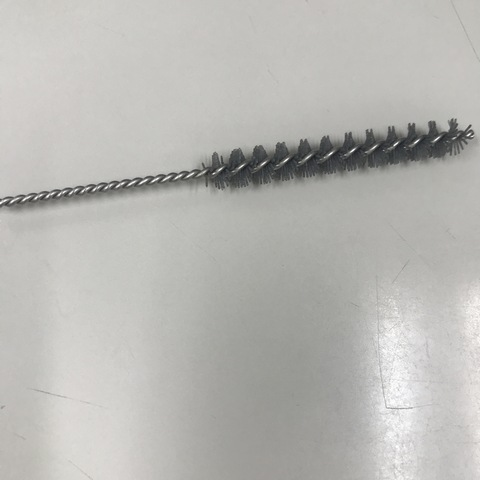Twist Brush-A: (1, 116, 473, 212)
